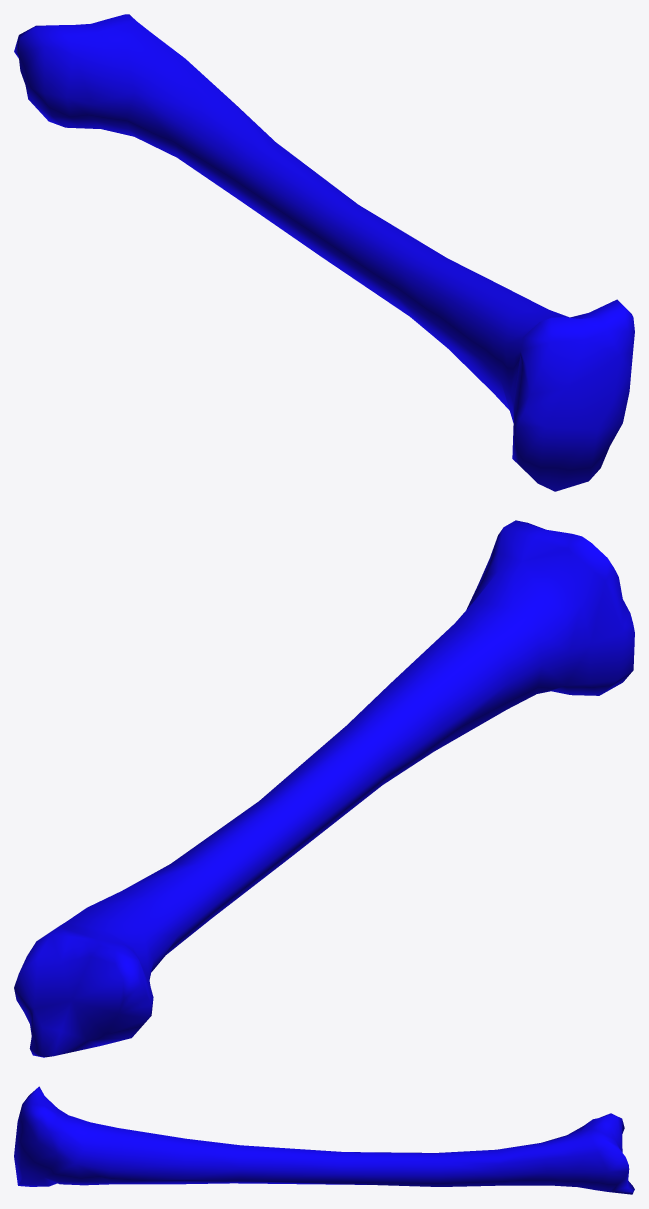
File: SM_L_Tibia.FBX
3 views of the same model, one above another, from view 1: azimuth 30°, elevation 25°; view 2: azimuth 150°, elevation 25°; view 3: azimuth 270°, elevation 25° (orthographic). The views are drawn at different scales.
Parts seen in each view (by area): view 1: L_Tibia; view 2: L_Tibia; view 3: L_Tibia.
Boxes of the visible parts, x1,y1,x2,y2 form: L_Tibia: (14,14,634,491); L_Tibia: (14,520,634,1057); L_Tibia: (14,1086,634,1194).
Bounding box in the file's own units: 6.58 × 7.44 × 43.67.
